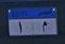1: (16, 20, 24, 35)
meem: (40, 19, 48, 32)
